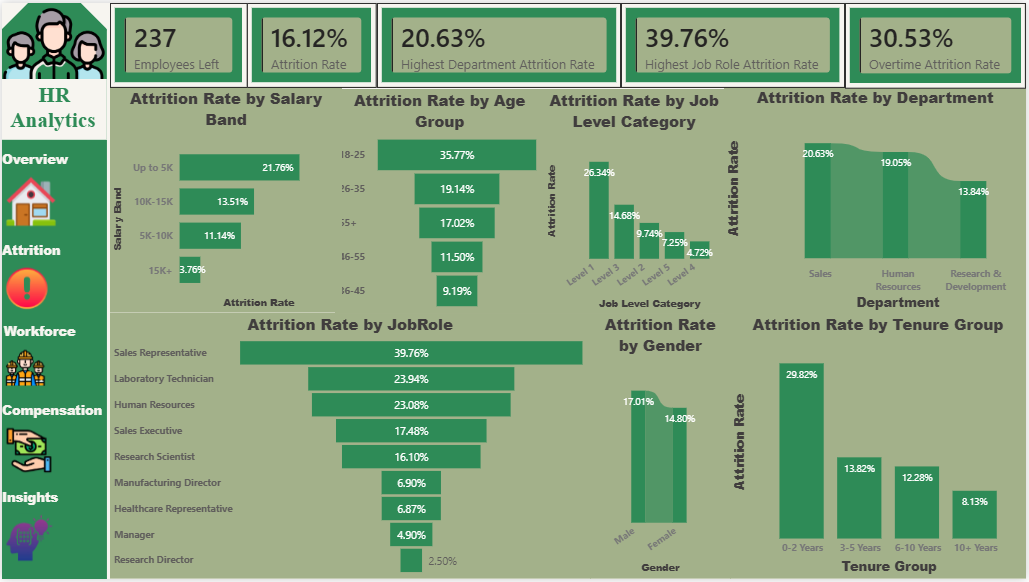

This screenshot's page, from the dashboard's own definition file:
{"tool":"powerbi","page":{"name":"Attrition Analysis","canvas":[1280,720],"ordinal":1},"visuals":[{"type":"ribbonChart","fields":{"Category":["employee_attrition.Department"],"Y":["DAX Measures.Attrition Rate"]},"box":[902.1,104.3,377.9,286.3],"z":0},{"type":"cardVisual","fields":{"Data":["DAX Measures.Overtime Attrition Rate"]},"box":[1053.5,0,226.5,106.9],"z":1000},{"type":"funnel","fields":{"Category":["employee_attrition.JobRole"],"Y":["DAX Measures.Attrition Rate"]},"box":[134.9,388.1,600.6,332.1],"z":2000},{"type":"ribbonChart","fields":{"Category":["employee_attrition.Gender"],"Y":["DAX Measures.Attrition Rate"]},"box":[735.4,388.1,175.6,332.1],"z":3000},{"type":"funnel","fields":{"Category":["employee_attrition.Age Group"],"Y":["DAX Measures.Attrition Rate"]},"box":[415.7,107.4,261.5,280.8],"z":4000},{"type":"clusteredColumnChart","fields":{"Category":["employee_attrition.Job Level Category"],"Y":["DAX Measures.Attrition Rate"]},"box":[676.9,106.9,225.2,281.2],"z":5000},{"type":"clusteredBarChart","fields":{"Category":["employee_attrition.Salary Band"],"Y":["DAX Measures.Attrition Rate"]},"box":[134.9,105.6,290.1,282.5],"z":6000},{"type":"columnChart","fields":{"Category":["employee_attrition.Tenure Group"],"Y":["DAX Measures.Attrition Rate"]},"box":[910.3,387.6,369.7,331.9],"z":7000},{"type":"cardVisual","fields":{"Data":["DAX Measures.Highest Department Attrition Rate"]},"box":[468.2,0,305.4,105.6],"z":8000},{"type":"cardVisual","fields":{"Data":["DAX Measures.Highest Job Role Attrition Rate"]},"box":[773.6,0,279.9,105.6],"z":9000},{"type":"cardVisual","fields":{"Data":["DAX Measures.Attrition Rate"]},"box":[306.6,0,161.6,105.6],"z":10000},{"type":"cardVisual","fields":{"Data":["DAX Measures.Employees Left"]},"box":[134.9,0,171.8,105.6],"z":11000},{"type":"shape","box":[0,0,131.1,720.2],"z":12000},{"type":"actionButton","title":"Overview","box":[0,183.2,85.2,100.5],"z":14000},{"type":"actionButton","title":"Insights","box":[0,605.6,94.2,96.7],"z":15000},{"type":"actionButton","title":"Compensation","box":[0,497.5,129.8,95.4],"z":16000},{"type":"actionButton","title":"Workforce","box":[0,398.3,94.2,86.5],"z":17000},{"type":"actionButton","title":"Attrition ","box":[0,297.7,84,90.3],"z":18000},{"type":"image","box":[0,0,131.1,105.6],"z":19000},{"type":"textbox","box":[0,95.4,131.1,76.3],"z":20000}]}

Visuals, with their boxes in screenshot pixels (x1, y1, x2, y2), scaled from the page's 1280x720 canvas onto the 1029x582 screenshot:
ribbonChart - employee_attrition.Department x DAX Measures.Attrition Rate: crop(725, 84, 1028, 316)
cardVisual - DAX Measures.Overtime Attrition Rate: crop(847, 0, 1028, 86)
funnel - employee_attrition.JobRole x DAX Measures.Attrition Rate: crop(108, 314, 591, 581)
ribbonChart - employee_attrition.Gender x DAX Measures.Attrition Rate: crop(591, 314, 732, 581)
funnel - employee_attrition.Age Group x DAX Measures.Attrition Rate: crop(334, 87, 544, 314)
clusteredColumnChart - employee_attrition.Job Level Category x DAX Measures.Attrition Rate: crop(544, 86, 725, 314)
clusteredBarChart - employee_attrition.Salary Band x DAX Measures.Attrition Rate: crop(108, 85, 342, 314)
columnChart - employee_attrition.Tenure Group x DAX Measures.Attrition Rate: crop(732, 313, 1028, 581)
cardVisual - DAX Measures.Highest Department Attrition Rate: crop(376, 0, 622, 85)
cardVisual - DAX Measures.Highest Job Role Attrition Rate: crop(622, 0, 847, 85)
cardVisual - DAX Measures.Attrition Rate: crop(246, 0, 376, 85)
cardVisual - DAX Measures.Employees Left: crop(108, 0, 247, 85)
shape: crop(0, 0, 105, 581)
"Overview" actionButton: crop(0, 148, 68, 229)
"Insights" actionButton: crop(0, 490, 76, 568)
"Compensation" actionButton: crop(0, 402, 104, 479)
"Workforce" actionButton: crop(0, 322, 76, 392)
"Attrition " actionButton: crop(0, 241, 68, 314)
image: crop(0, 0, 105, 85)
textbox: crop(0, 77, 105, 139)
